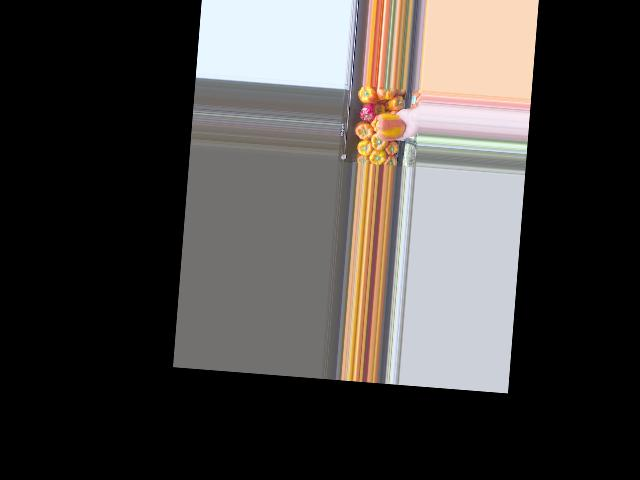bell_pepper: (387, 93, 403, 112)
